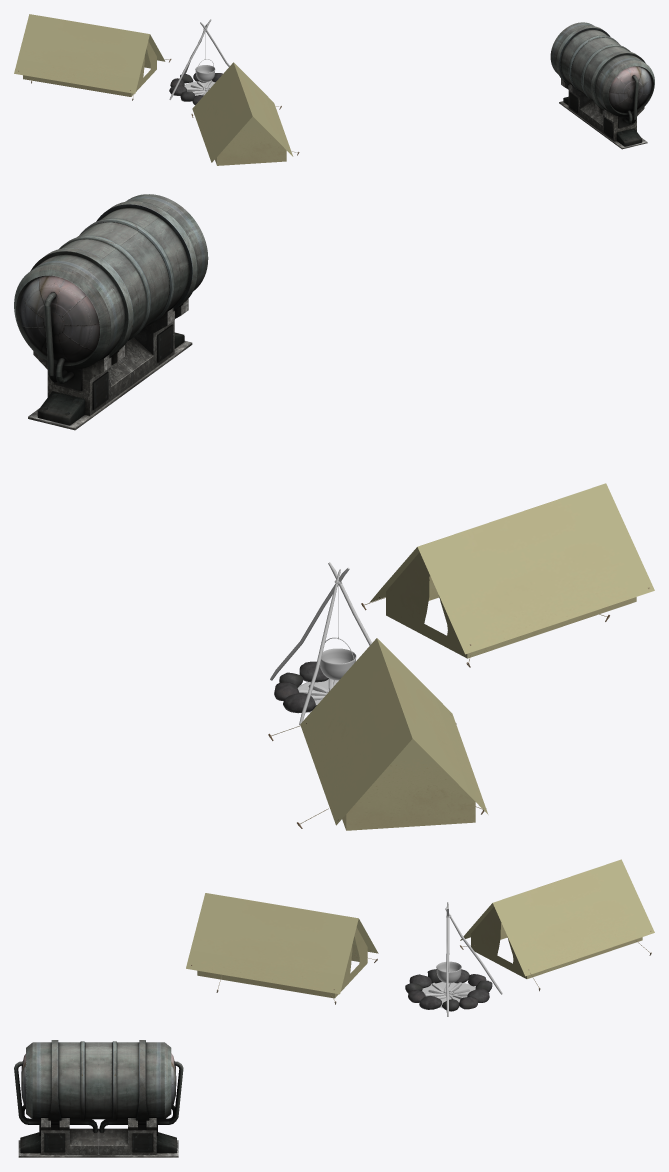
Rendered from house1.obj.
3 views of the same model, one above another, from view 1: azimuth 30°, elevation 25°; view 2: azimuth 150°, elevation 25°; view 3: azimuth 270°, elevation 25° (orthographic). The views are drawn at different scales.
Parts seen in each view (by area): view 1: camp_Camp_Camp_Fire, water_tank_Cube.001, camp_Camp_Camp_Fire.001_camp_Camp_Camp_Fire.003, Camp_Fire_woods_and_ground_Fire_Woods, Camp_Fire_Fire_Woods_Rocks, Camp_Fire_Fire_Woods_utensil_and_rope; view 2: water_tank_Cube.001, camp_Camp_Camp_Fire.001_camp_Camp_Camp_Fire.003, camp_Camp_Camp_Fire, Camp_Fire_woods_and_ground_Fire_Woods, Camp_Fire_Fire_Woods_Rocks, Camp_Fire_Fire_Woods_utensil_and_rope; view 3: water_tank_Cube.001, camp_Camp_Camp_Fire.001_camp_Camp_Camp_Fire.003, camp_Camp_Camp_Fire, Camp_Fire_Fire_Woods_Rocks, Camp_Fire_woods_and_ground_Fire_Woods, Camp_Fire_Fire_Woods_utensil_and_rope.
Part boxes in pixels (bbox=[...]): camp_Camp_Camp_Fire: bbox=[14, 14, 165, 96]; water_tank_Cube.001: bbox=[550, 22, 654, 149]; camp_Camp_Camp_Fire.001_camp_Camp_Camp_Fire.003: bbox=[192, 62, 293, 165]; Camp_Fire_woods_and_ground_Fire_Woods: bbox=[169, 19, 229, 99]; Camp_Fire_Fire_Woods_Rocks: bbox=[169, 73, 222, 104]; Camp_Fire_Fire_Woods_utensil_and_rope: bbox=[195, 28, 215, 81]; water_tank_Cube.001: bbox=[14, 194, 208, 430]; camp_Camp_Camp_Fire.001_camp_Camp_Camp_Fire.003: bbox=[369, 483, 654, 658]; camp_Camp_Camp_Fire: bbox=[300, 638, 488, 830]; Camp_Fire_woods_and_ground_Fire_Woods: bbox=[270, 562, 371, 725]; Camp_Fire_Fire_Woods_Rocks: bbox=[274, 661, 328, 713]; Camp_Fire_Fire_Woods_utensil_and_rope: bbox=[320, 580, 356, 680]; water_tank_Cube.001: bbox=[14, 1040, 183, 1157]; camp_Camp_Camp_Fire.001_camp_Camp_Camp_Fire.003: bbox=[186, 893, 378, 998]; camp_Camp_Camp_Fire: bbox=[460, 859, 654, 978]; Camp_Fire_Fire_Woods_Rocks: bbox=[405, 969, 492, 1011]; Camp_Fire_woods_and_ground_Fire_Woods: bbox=[422, 902, 502, 1016]; Camp_Fire_Fire_Woods_utensil_and_rope: bbox=[436, 915, 461, 983].
Bounding box in the file's own units: 15.79 × 3.15 × 16.27.
